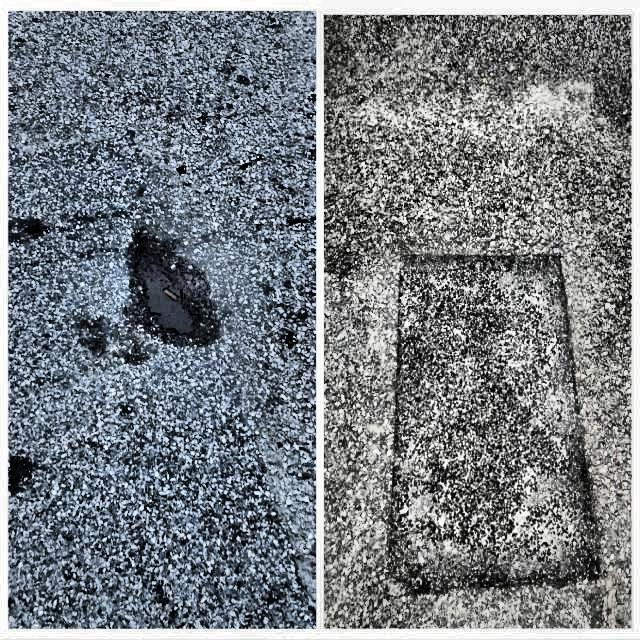buraco: (123, 234, 220, 350)
